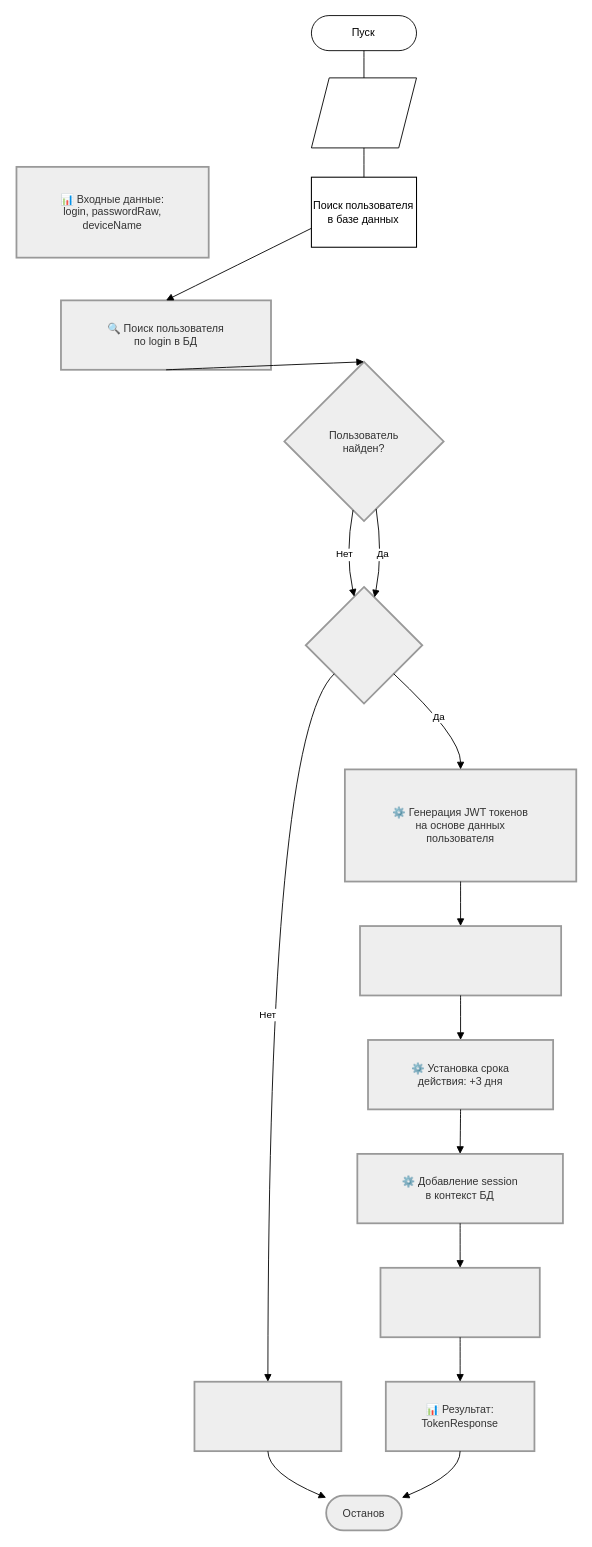
Some shapes in this 592 by 1547 pixel diagram are drawn without their labels. Each missing label, with the centre of its shape:
Логин, пароль и имя устройства пользователя: pixel 364 112
Пароль верен?: pixel 363 645
⚙️ Создание объекта session с параметрами: pixel 460 960
⚙️ Сохранение изменений в БД: pixel 459 1302
📊 Результат: null: pixel 267 1416
